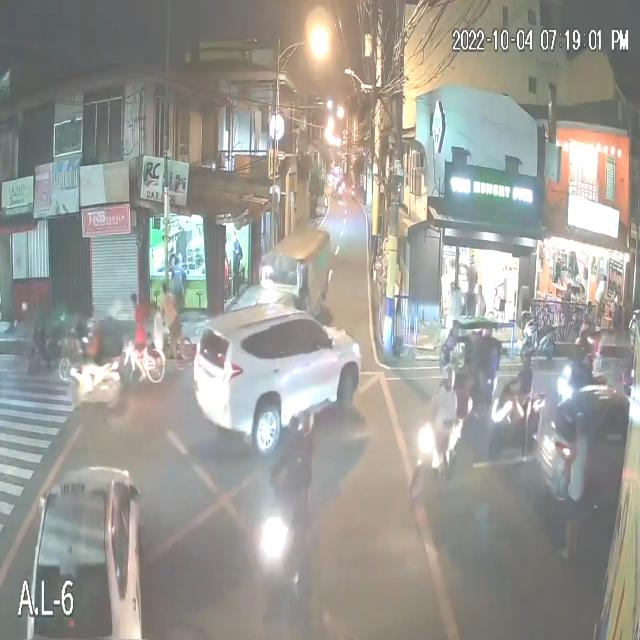Full-Faced: (298, 402, 312, 440), (288, 412, 302, 444), (442, 363, 456, 391), (522, 320, 536, 345), (520, 344, 535, 366)
